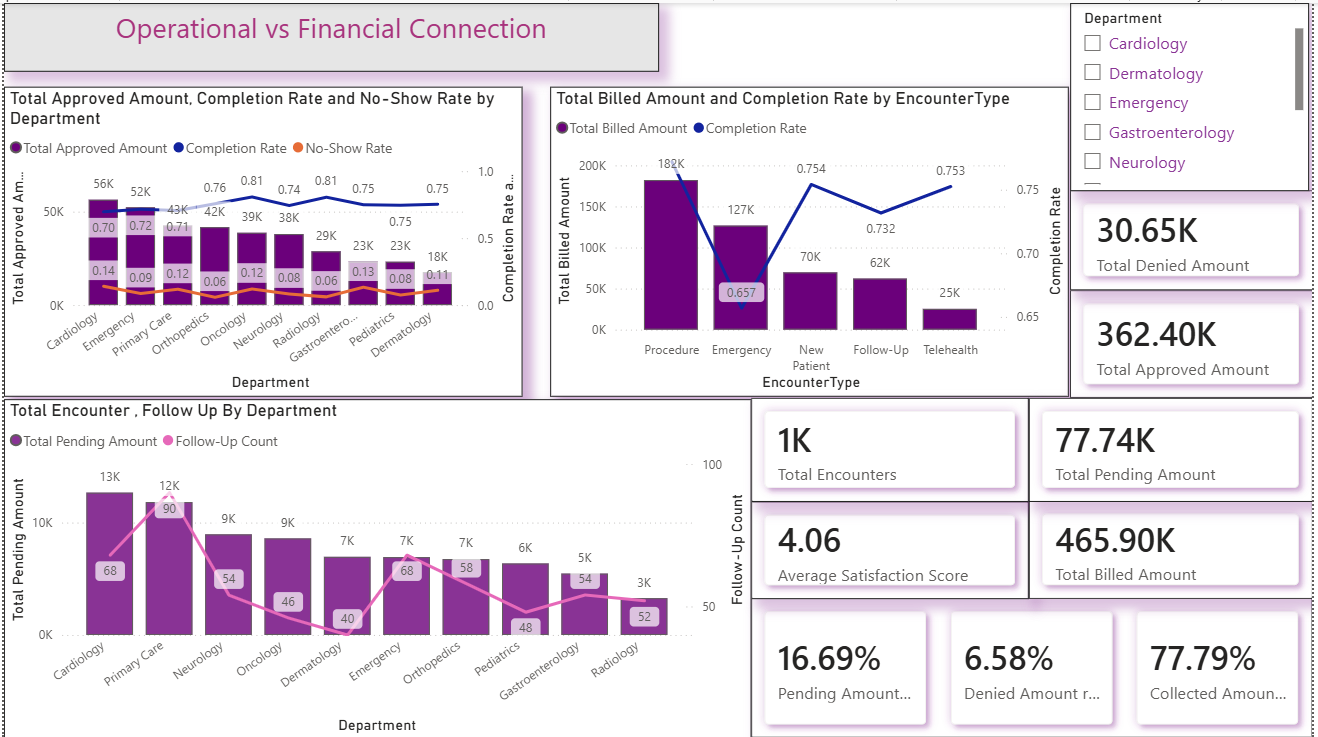

The page's visual inventory and layout, read from the dashboard file:
{"tool":"powerbi","page":{"name":"Operational Vs Financial Connection","canvas":[1280,720],"ordinal":5},"visuals":[{"type":"textbox","box":[0,0,640.8,67.2],"z":0},{"type":"lineClusteredColumnComboChart","fields":{"Category":["ClaimsTable.Department"],"Y2":["ClaimsTable.Completion Rate","ClaimsTable.No-Show Rate"],"Y":["ClaimsTable.Total Revenue"]},"box":[0,82.1,507.5,303.5],"z":1000},{"type":"lineClusteredColumnComboChart","fields":{"Y2":["ClaimsTable.Completion Rate"],"Y":["ClaimsTable.Total Billed Amount"],"Category":["EncountersTable.EncounterType"]},"box":[534.9,82.1,507.5,303.5],"z":2000},{"type":"lineStackedColumnComboChart","title":"Total Encounter , Follow Up By Department ","fields":{"Category":["ClaimsTable.Department"],"Y":["ClaimsTable.Total Pending Amount"],"Y2":["ClaimsTable.Follow-Up Count"]},"box":[0,387.5,731.2,332.5],"z":3000},{"type":"cardVisual","fields":{"Data":["ClaimsTable.Pending Amount rate","ClaimsTable.Denied Amount rate","ClaimsTable.Collected Amount rate"]},"box":[731.2,582.5,548.8,137.5],"z":4000},{"type":"cardVisual","fields":{"Data":["ClaimsTable.Average Satisfaction Score"]},"box":[731.2,487.5,271.2,95],"z":5000},{"type":"cardVisual","fields":{"Data":["ClaimsTable.Total Encounters"]},"box":[731.2,386.2,271.2,101.2],"z":6000},{"type":"cardVisual","fields":{"Data":["ClaimsTable.Total Billed Amount"]},"box":[1002.5,486.2,277.5,96.2],"z":7000},{"type":"cardVisual","fields":{"Data":["ClaimsTable.Total Approved Amount"]},"box":[1042.5,281.2,237.5,105],"z":8000},{"type":"cardVisual","fields":{"Data":["ClaimsTable.Total Pending Amount"]},"box":[1002.5,386.2,277.5,101.2],"z":9000},{"type":"cardVisual","fields":{"Data":["ClaimsTable.Total Denied Amount"]},"box":[1042.5,183.8,237.5,97.5],"z":10000},{"type":"slicer","fields":{"Values":["EncountersTable.Department"]},"box":[1042.5,0,233.8,183.8],"z":11000}]}

Visuals, with their boxes in screenshot pixels (x1, y1, x2, y2), scaled from the page's 1280x720 canvas onto the 1318x737 screenshot:
textbox: BBox(0, 0, 660, 69)
lineClusteredColumnComboChart - ClaimsTable.Department x ClaimsTable.Completion Rate: BBox(0, 84, 523, 395)
lineClusteredColumnComboChart - ClaimsTable.Completion Rate x ClaimsTable.Total Billed Amount: BBox(551, 84, 1073, 395)
"Total Encounter , Follow Up By Department " lineStackedColumnComboChart: BBox(0, 397, 753, 736)
cardVisual - ClaimsTable.Pending Amount rate x ClaimsTable.Denied Amount rate: BBox(753, 596, 1317, 736)
cardVisual - ClaimsTable.Average Satisfaction Score: BBox(753, 499, 1032, 596)
cardVisual - ClaimsTable.Total Encounters: BBox(753, 395, 1032, 499)
cardVisual - ClaimsTable.Total Billed Amount: BBox(1032, 498, 1317, 596)
cardVisual - ClaimsTable.Total Approved Amount: BBox(1073, 288, 1317, 395)
cardVisual - ClaimsTable.Total Pending Amount: BBox(1032, 395, 1317, 499)
cardVisual - ClaimsTable.Total Denied Amount: BBox(1073, 188, 1317, 288)
slicer - EncountersTable.Department: BBox(1073, 0, 1314, 188)
